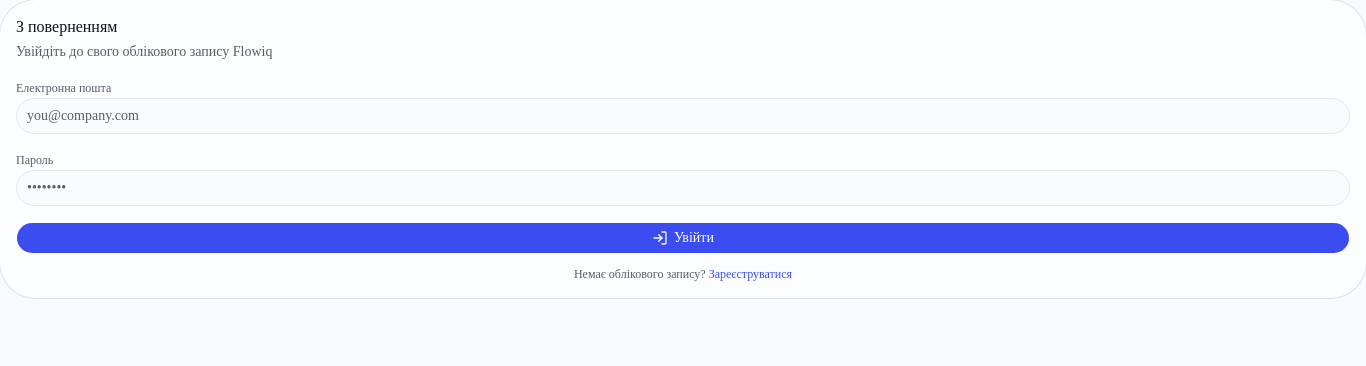
Scenario: LoginForm › displays API error on failed login
Type "fail@test.com" into the field with test id "login-email" at x=683, y=116, box [16,98,1350,134]
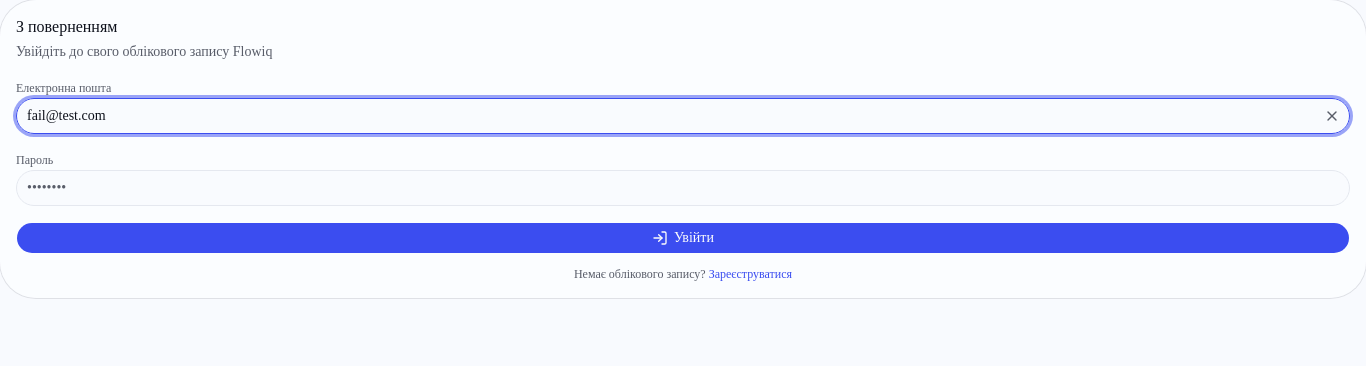
Type "wrong" into the password field with test id "login-password" at x=683, y=188, box [16,170,1350,206]
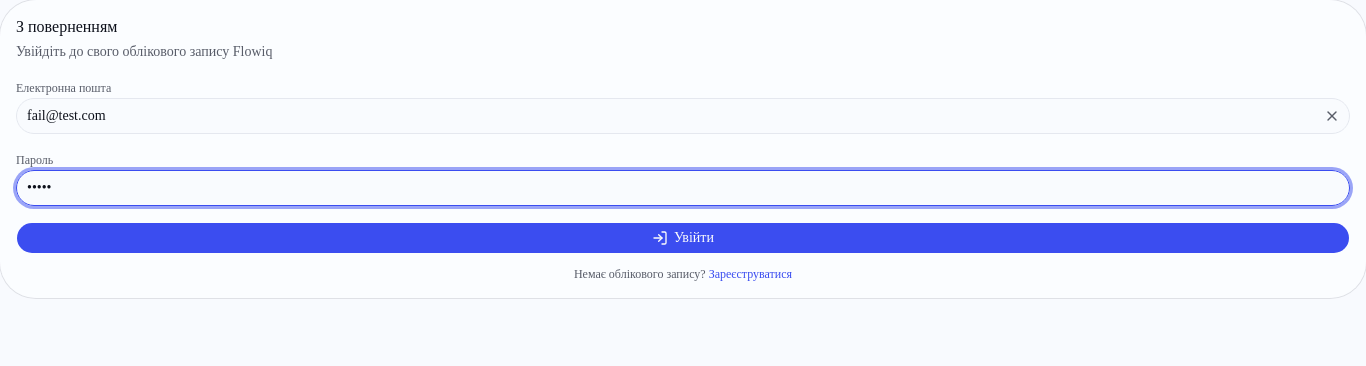
Click the button with test id "login-submit" at x=683, y=238, box [16,222,1350,254]
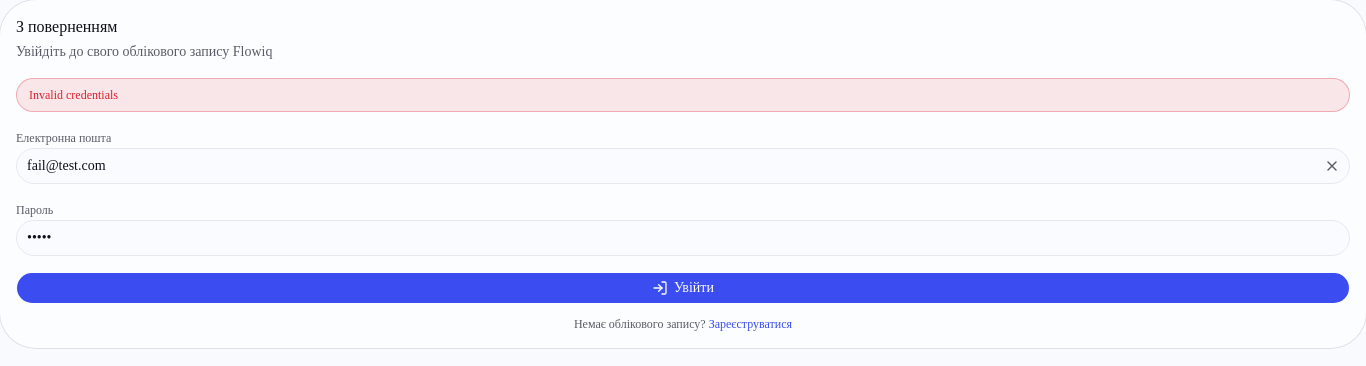
Now the text "Invalid credentials" is shown, box [16,78,1350,112]
